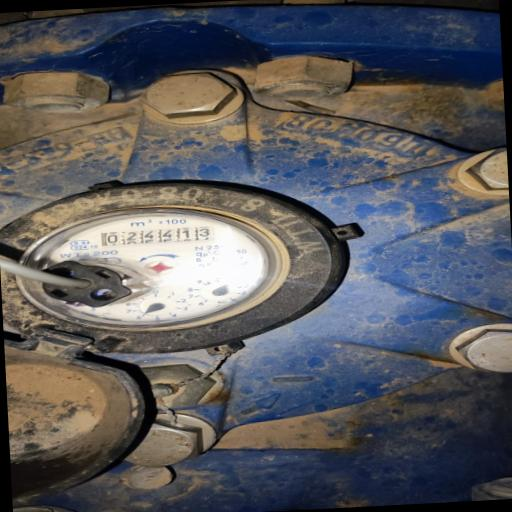0: (101, 232, 123, 245)
1: (178, 228, 196, 240)
2: (124, 231, 142, 241)
3: (196, 228, 214, 238)
4: (160, 228, 176, 240), (143, 230, 158, 240)
medida: (99, 226, 218, 246)
